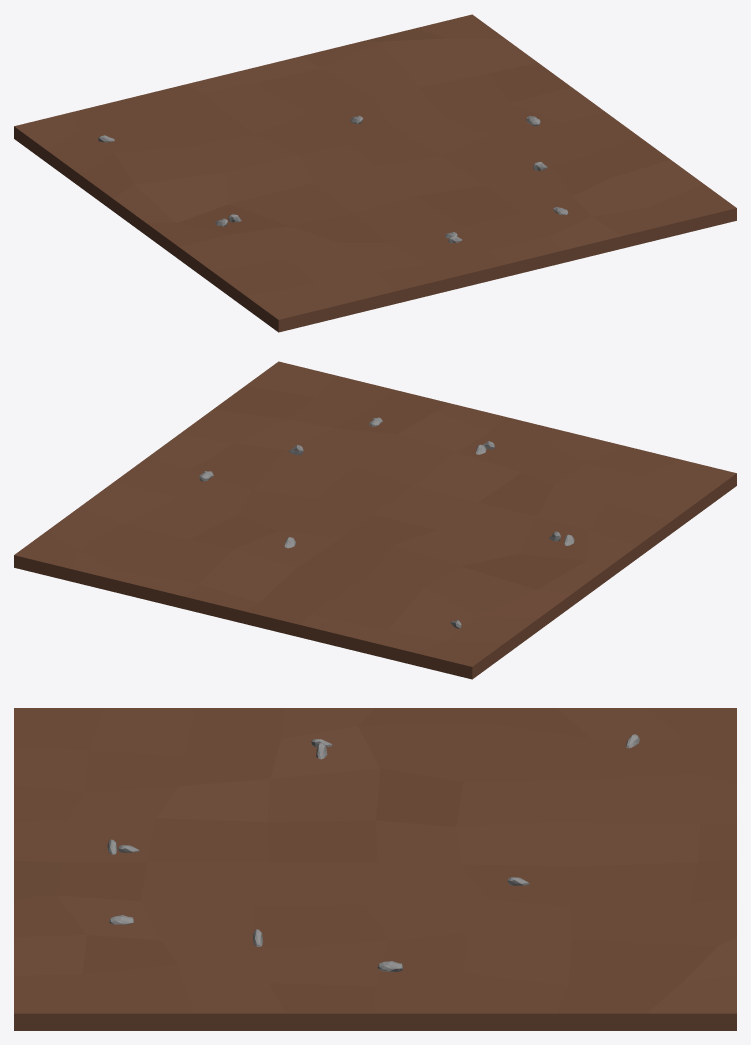
File: DirtGround.fbx
3 views of the same model, one above another, from view 1: azimuth 30°, elevation 25°; view 2: azimuth 150°, elevation 25°; view 3: azimuth 270°, elevation 25° (orthographic). The views are drawn at different scales.
Parts seen in each view (by area): view 1: DirtGround; view 2: DirtGround; view 3: DirtGround.
Boxes of the visible parts, x1=… form: DirtGround: x1=14, y1=14, x2=736, y2=332; DirtGround: x1=14, y1=361, x2=736, y2=679; DirtGround: x1=14, y1=708, x2=736, y2=1030.
Size of the model in its own units: 500 by 21.11 by 500.
Materials: 1 (1 with a texture image).
